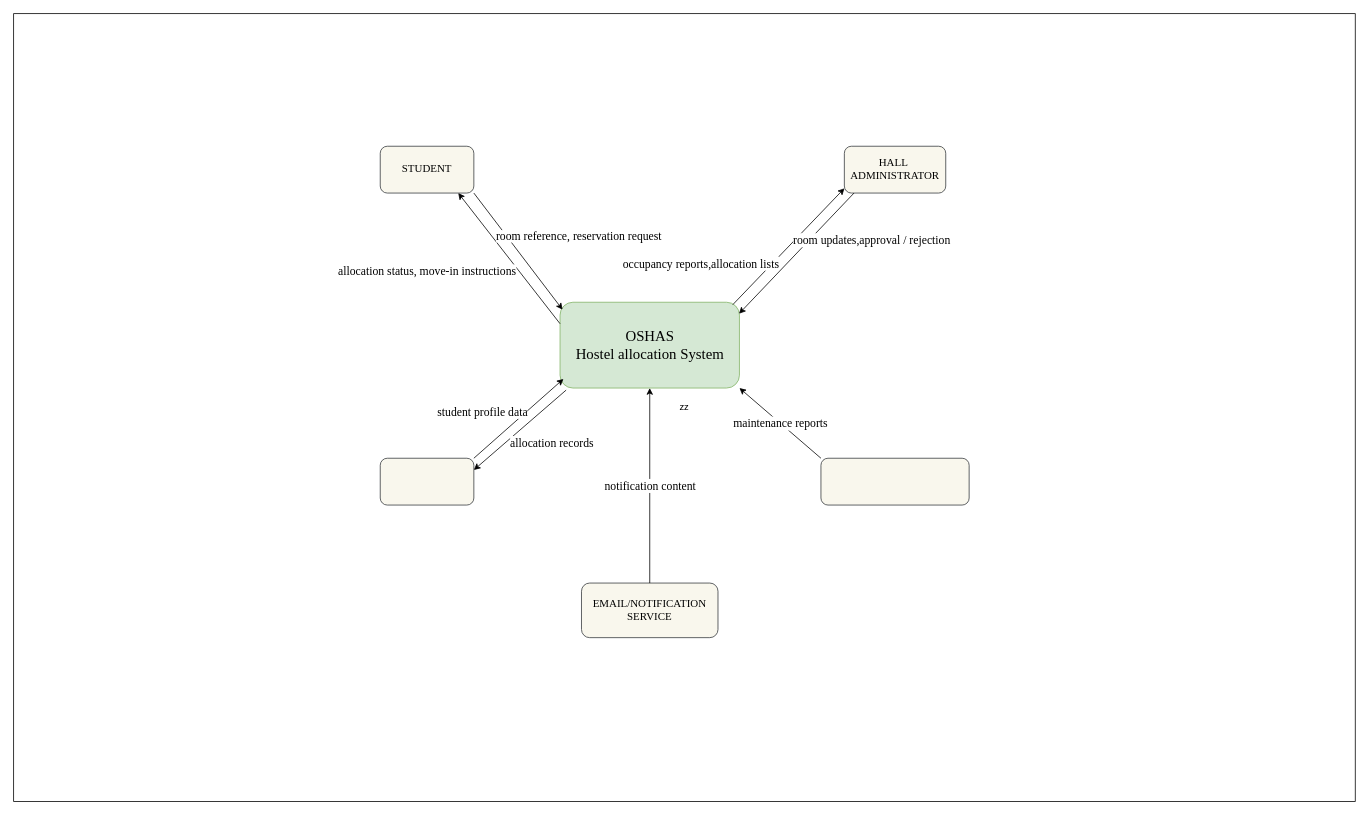
This 1369x815 diagram has some shape labels left out. The centre of each missing label's shape, as x and y in pixels:
MAINTENANCE/FACILITIES UNIT: (894,481)
UMIS: (426,481)
